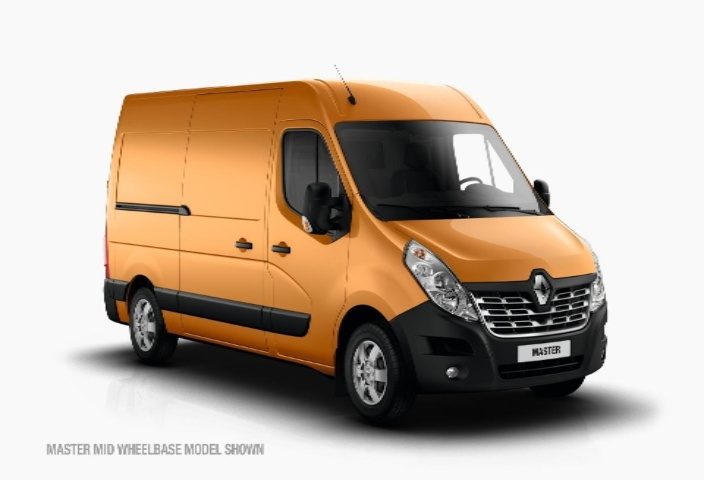van: (28, 55, 622, 441)
